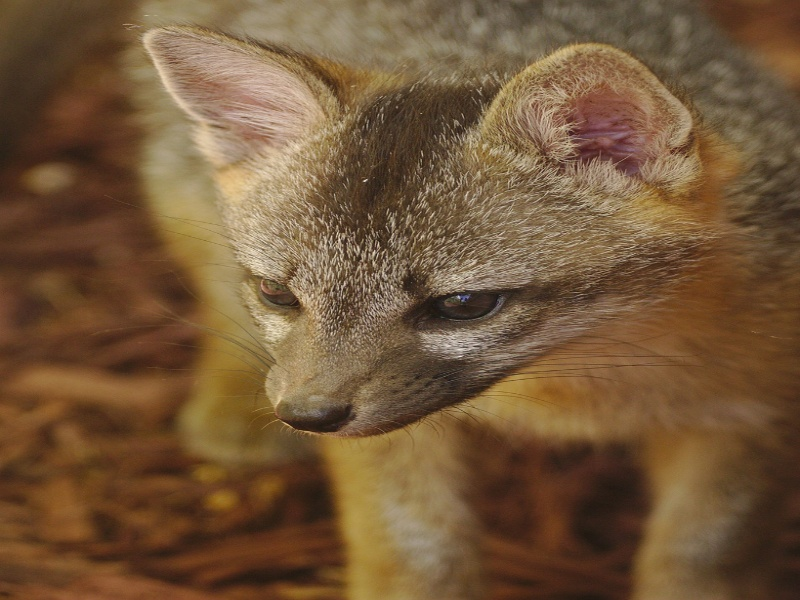fox: (128, 3, 800, 593)
